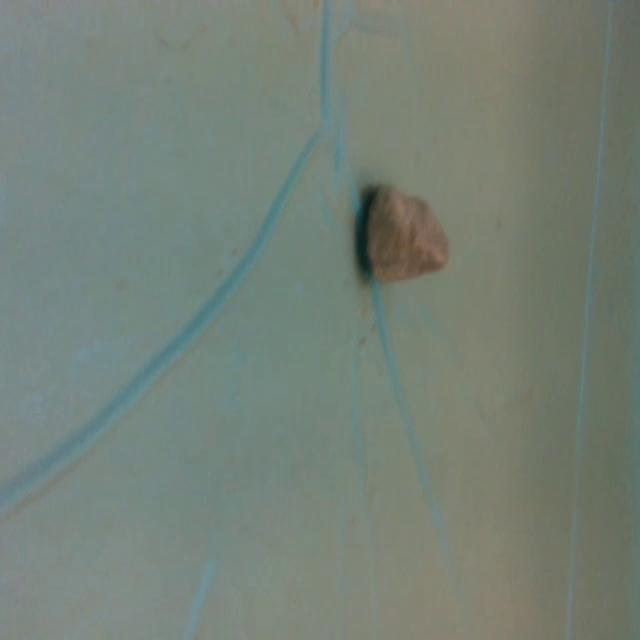rock: (357, 180, 453, 287)
